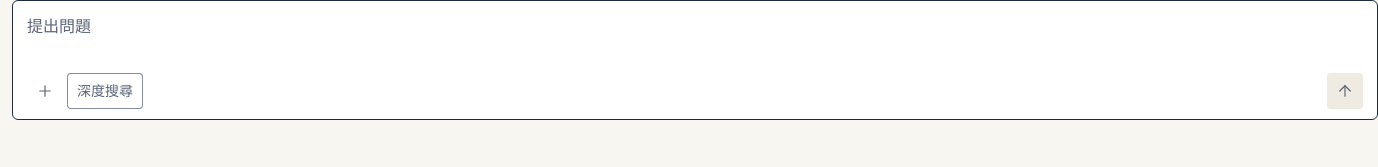
Scenario: 輸入框的「深度搜尋」 › 是一顆文字的切換鈕（沒有圖示）；開著時輸入框下面多一句話，關掉就沒有
expect the text "用掉 3 題" is not shown: met
What coordinates should you click on to do the following:
click the button "深度搜尋"
I would click on:
 (105, 91)
Its box is [67,73,143,109].
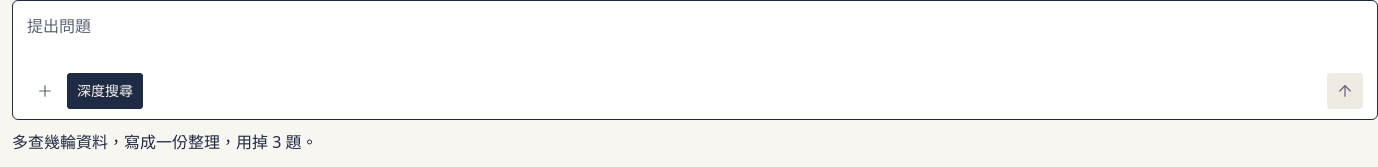
expect the button "深度搜尋" is pressed: met
What coordinates should you click on to do the following:
click the button "深度搜尋"
I would click on:
 (105, 91)
Its box is [67,73,143,109].
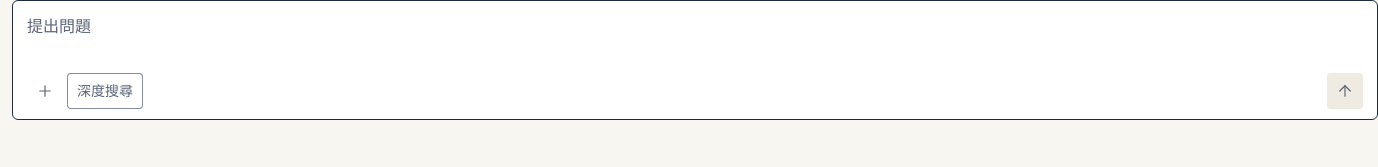
expect the text "用掉 3 題" is gone: met
